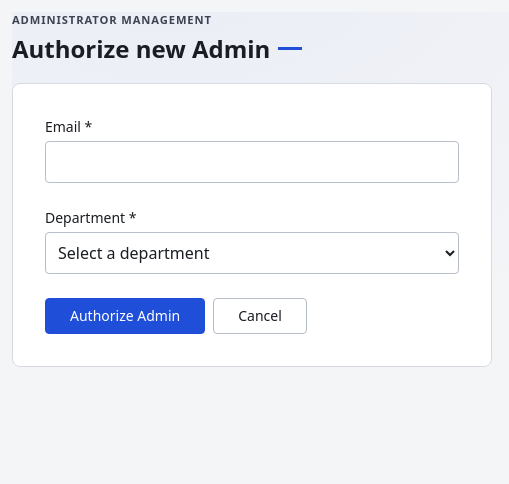
Test case: AdminAuthorizePage › shows the backend duplicate-authorization conflict
Type "new@example.gov" into the field labelled "Email *" at (252, 162), box x1=45 y1=141 x2=459 y2=183
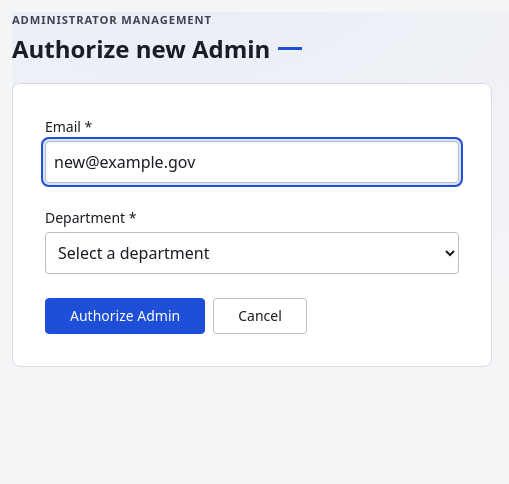
Select "Finance" in the dropdown labelled "Department *" at (252, 253), box x1=45 y1=232 x2=459 y2=274
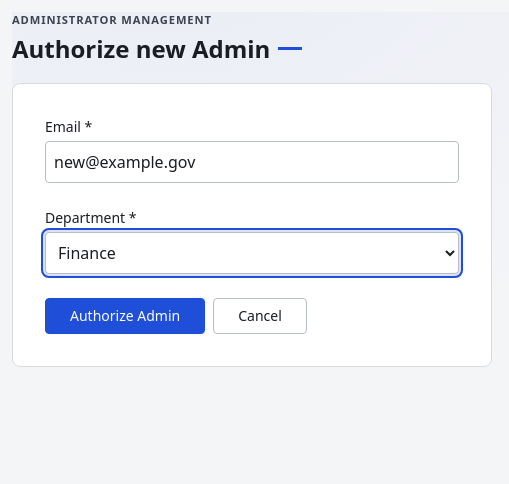
Click the button "Authorize Admin" at (125, 316), box x1=45 y1=298 x2=205 y2=334
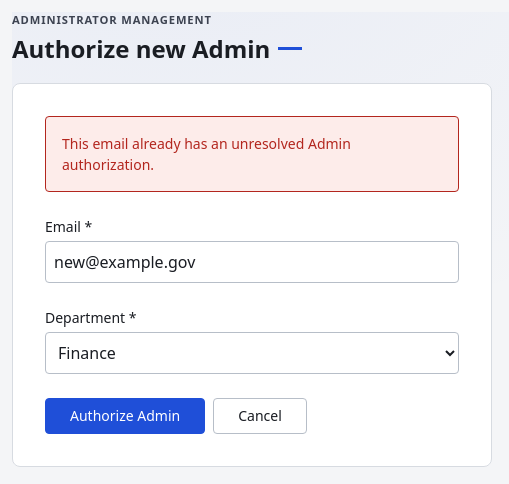
Now the message shows "unresolved Admin authorization", box x1=62 y1=134 x2=351 y2=174
